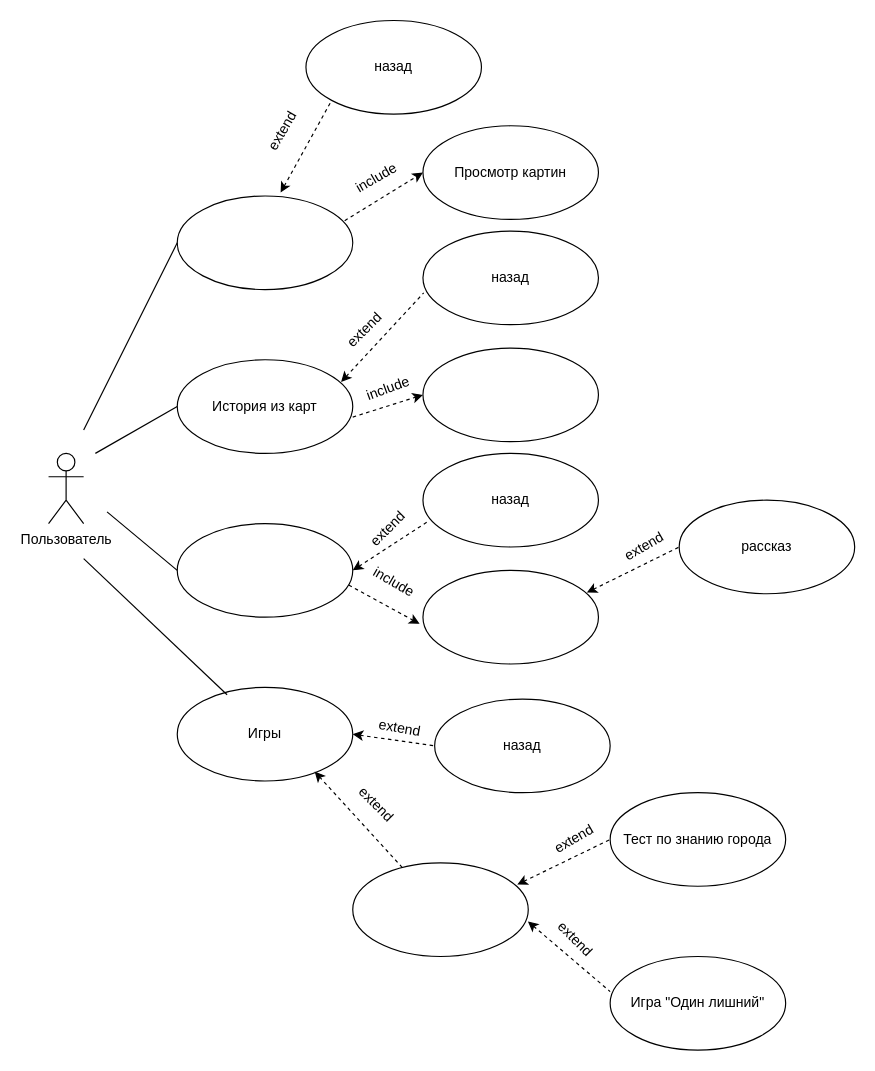
Image size: 875x1071. Some labels were removed from this diagram. Each missing label, with the centre of its shape:
"Выбор игры" belongs at pixel 440 909.
"Выбор рассказа" belongs at pixel 510 616.
"История из картин" belongs at pixel 264 242.
"Просмотр карт" belongs at pixel 510 394.
"Рассказы жителей" belongs at pixel 264 569.
